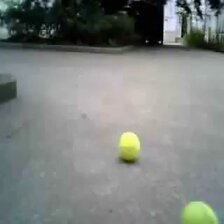tennis: (180, 200, 219, 224), (118, 130, 140, 161)
